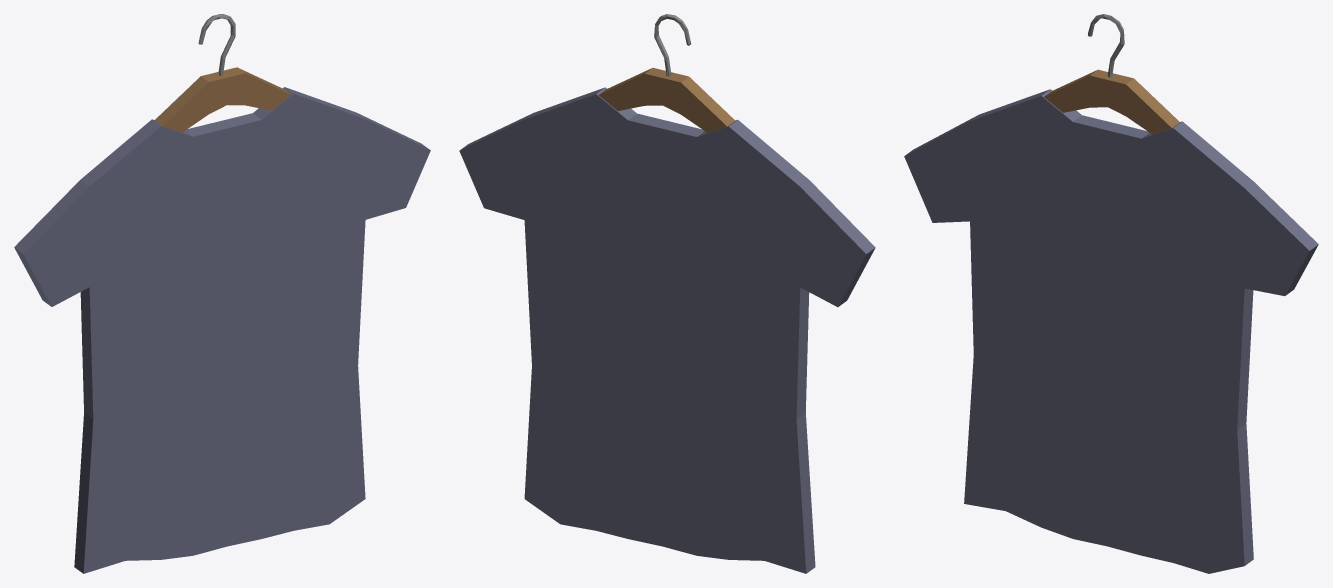
Rendered from Clothes6_C2.fbx.
The picture shows the model from 3 angles, left to right: view 1: azimuth 30°, elevation 25°; view 2: azimuth 150°, elevation 25°; view 3: azimuth 330°, elevation 25°; orthographic projection.
Visible parts, largest first — view 1: Clothes6_C2; view 2: Clothes6_C2; view 3: Clothes6_C2.
Boxes of the visible parts, bbox=[...] form: Clothes6_C2: bbox=[14, 14, 430, 573]; Clothes6_C2: bbox=[459, 14, 875, 573]; Clothes6_C2: bbox=[904, 14, 1318, 573].
Bounding box in the file's own units: 50.52 × 63.08 × 1.99.
